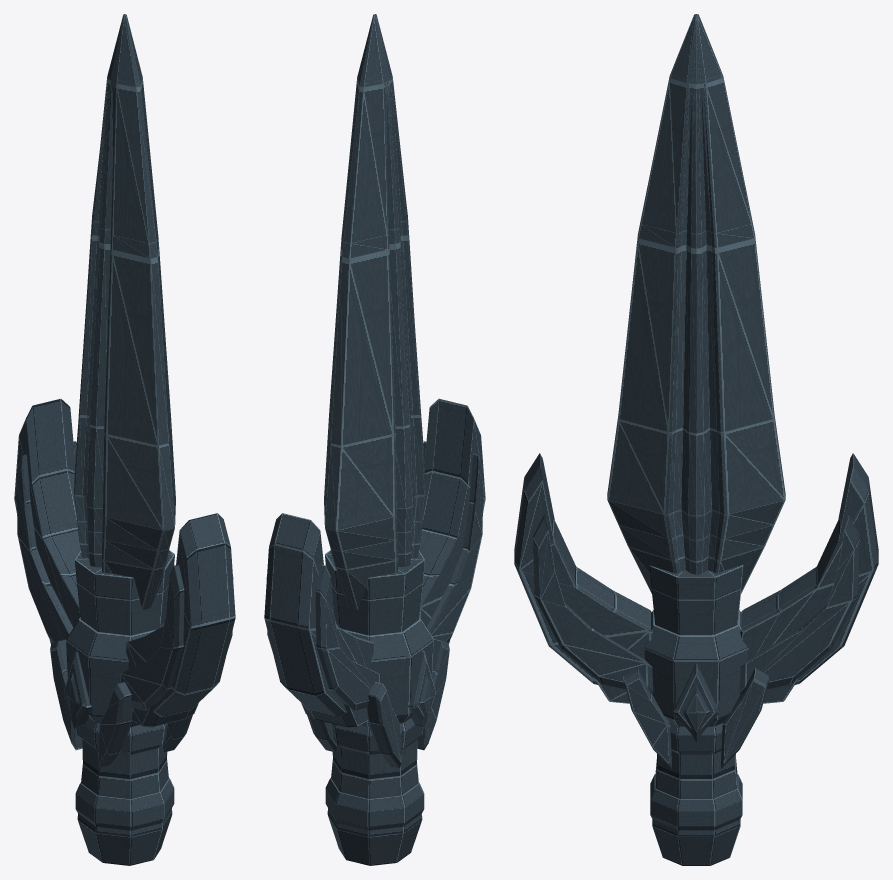
The model's file is workpiece_zhuji_baiqing_lingyun_spear_quenched.obj.
The picture shows the model from 3 angles, left to right: view 1: azimuth 30°, elevation 25°; view 2: azimuth 150°, elevation 25°; view 3: azimuth 270°, elevation 25°; orthographic projection.
Parts seen in each view (by area): view 1: geometry; view 2: geometry; view 3: geometry.
Part boxes in pixels (x1,y1,x2,y2): geometry: (14,14,235,865); geometry: (264,14,485,865); geometry: (514,14,878,865).
Bounding box in the file's own units: 0.1279 × 0.925 × 0.365.
